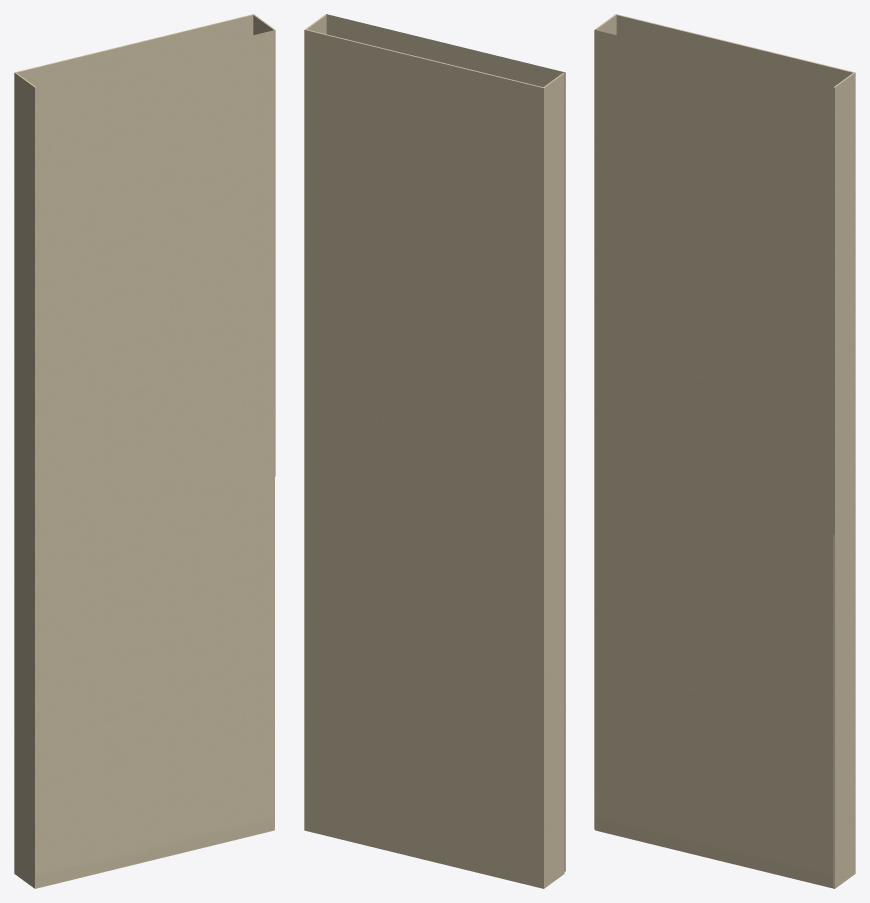
Rendered from spawn-a-receiver-lse-s.glb.
The picture shows the model from 3 angles, left to right: view 1: azimuth 30°, elevation 25°; view 2: azimuth 150°, elevation 25°; view 3: azimuth 330°, elevation 25°; orthographic projection.
Parts seen in each view (by area): view 1: bz06_pale_lime-cast; view 2: bz06_pale_lime-cast; view 3: bz06_pale_lime-cast.
Boxes of the visible parts, box(x1,y1,x2,y2) form: bz06_pale_lime-cast: box(14, 14, 275, 888); bz06_pale_lime-cast: box(304, 14, 565, 888); bz06_pale_lime-cast: box(594, 14, 855, 888).
Bounding box in the file's own units: 3.2 × 10.22 × 0.5.
Materials: 1 (1 with a texture image).
